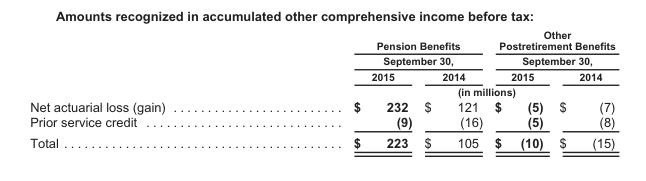table: (29, 28, 614, 149)
table column: (29, 28, 258, 149), (258, 28, 417, 149), (417, 28, 488, 149), (550, 28, 614, 149), (488, 28, 550, 149)
table column header: (29, 28, 614, 98)
table row: (29, 28, 614, 68), (29, 113, 614, 131), (29, 131, 614, 149), (29, 68, 614, 83), (29, 83, 614, 98), (29, 98, 614, 113)
table spanning cell: (258, 28, 488, 68), (258, 83, 614, 98), (488, 28, 614, 68)
